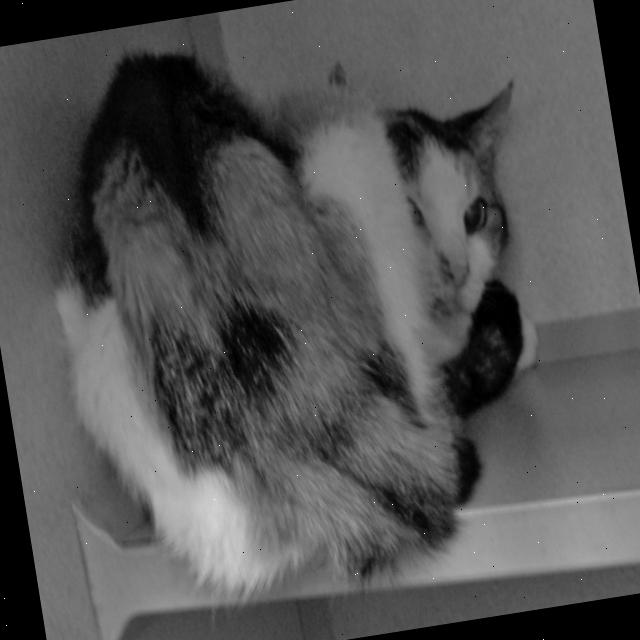calico_cat: (308, 28, 560, 386)
